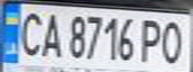1: (103, 14, 121, 61)
6: (115, 15, 142, 62)
7: (84, 12, 103, 61)
8: (63, 11, 87, 60)
A: (36, 9, 66, 58)
C: (12, 8, 45, 59)
O: (157, 17, 190, 65)
P: (136, 16, 166, 64)
